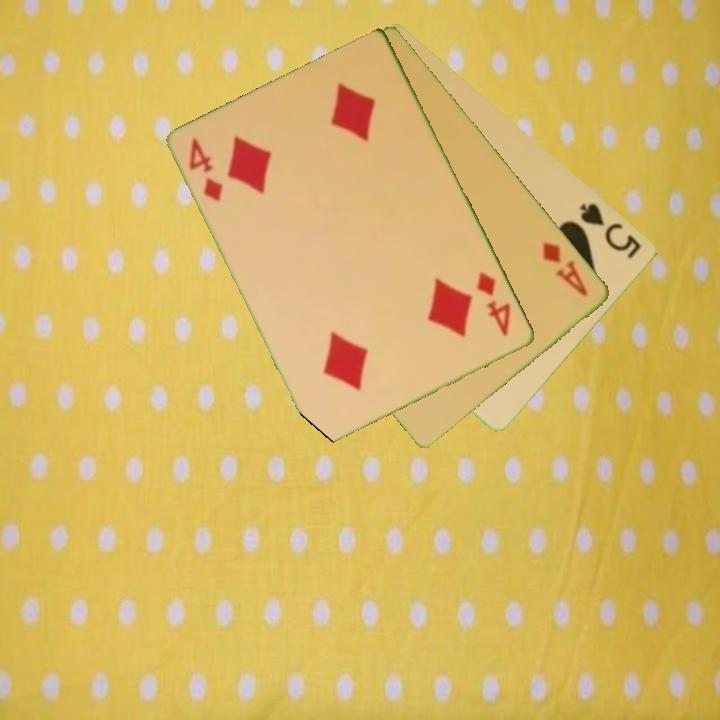4d: (473, 268, 514, 340), (186, 134, 226, 205)
5s: (576, 199, 645, 262)
Ad: (539, 238, 591, 300)
